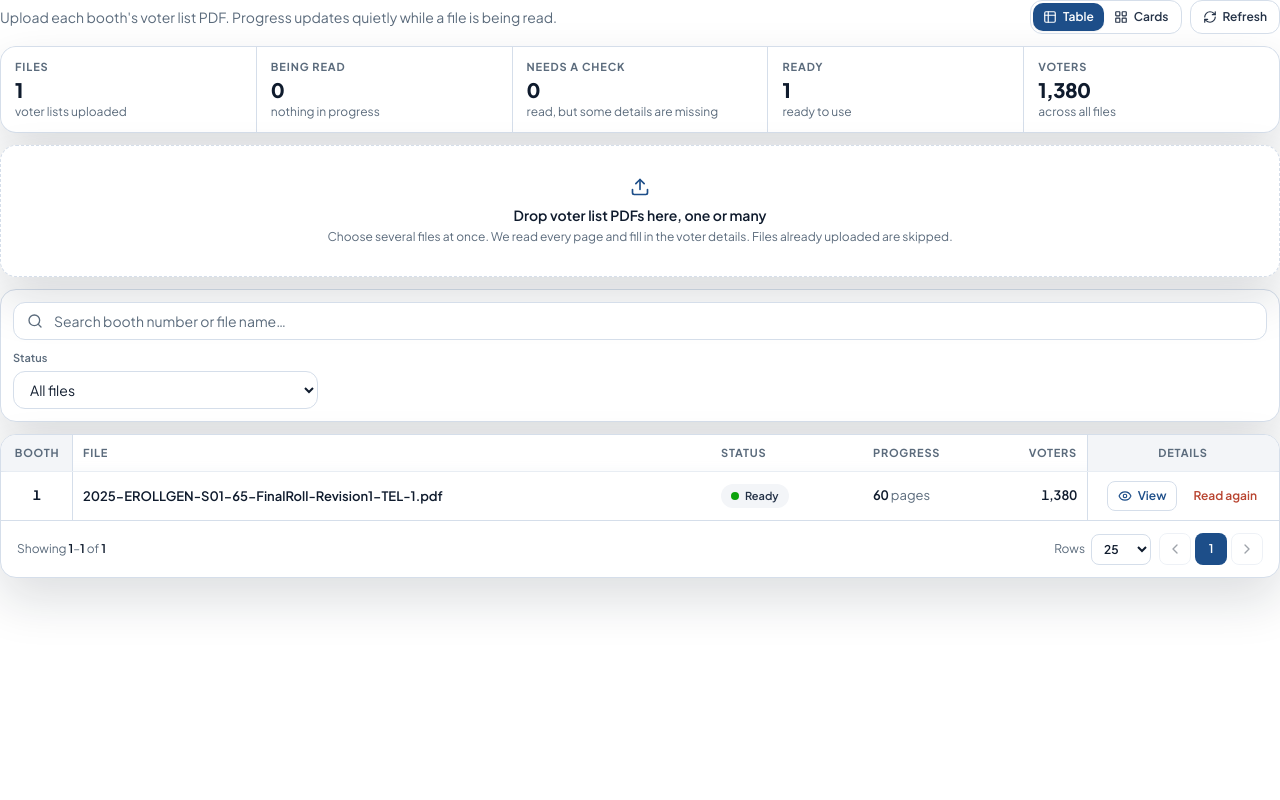
Test: View shows everything about the upload
Click the button "View".
click(1142, 496)  # box x1=1107 y1=481 x2=1178 y2=511
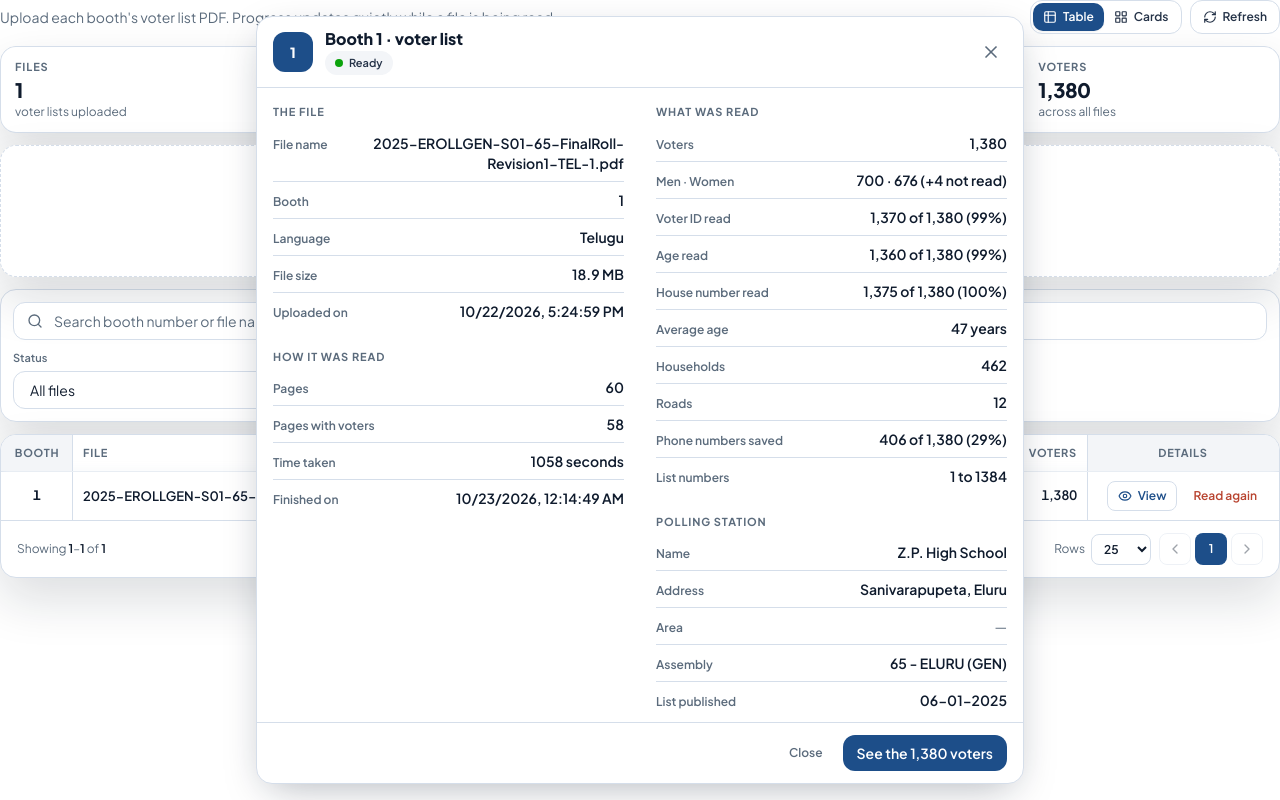
expect the text "Telugu" is shown: met, box x1=580 y1=226 x2=624 y2=246
expect the text "18.9 MB" is shown: met, box x1=572 y1=264 x2=624 y2=284
expect the text "Voter ID read" is shown: met, box x1=656 y1=210 x2=731 y2=226
